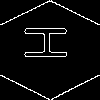H: (25, 25, 77, 61)
